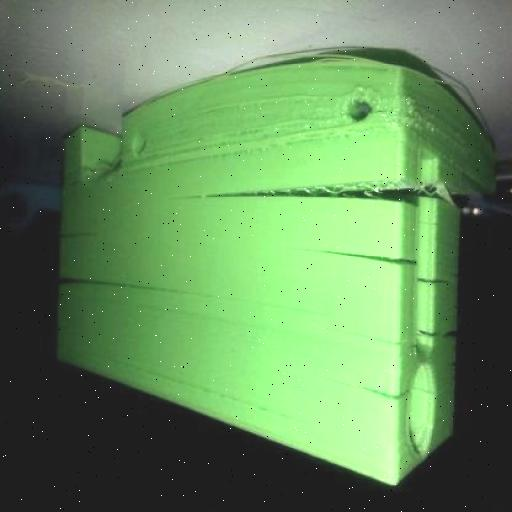cracks: (191, 152, 463, 231), (308, 335, 454, 410), (292, 236, 460, 298), (51, 268, 175, 308), (48, 222, 110, 248)
